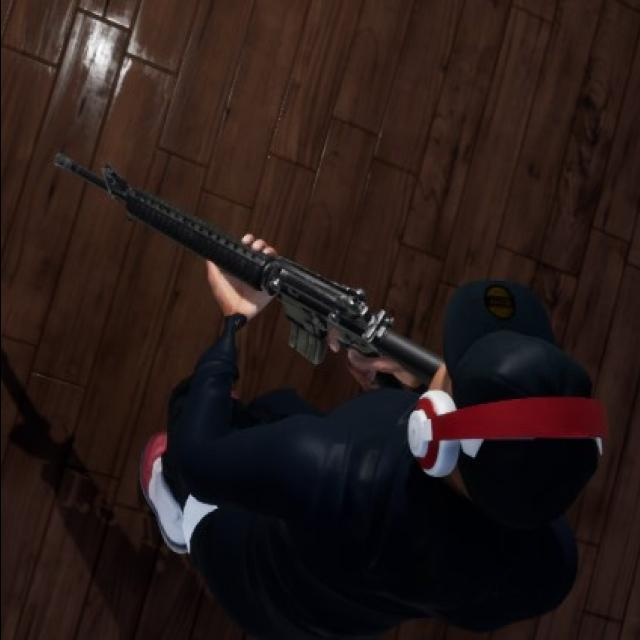rifle: (48, 152, 448, 384)
